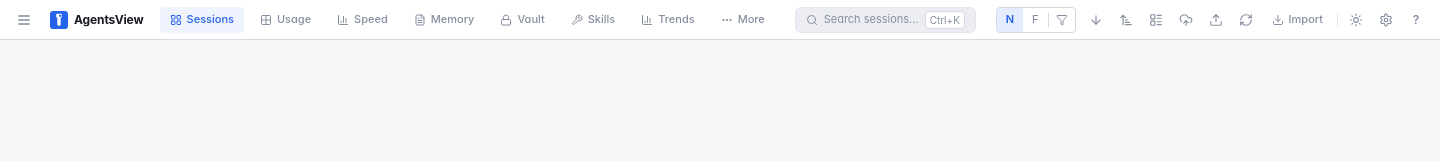
Test: AppHeader export actions › localizes the source path action
The image size is (1440, 161).
Click the button named "Export session" at (1186, 20), box [1172,6,1200,34]
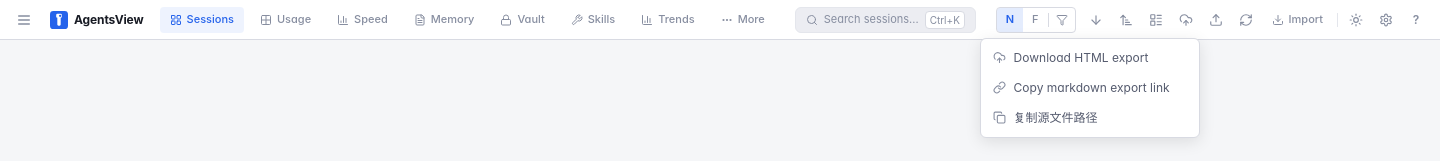
Expected: the button "复制源文件路径" is shown, [981,102,1199,132]
